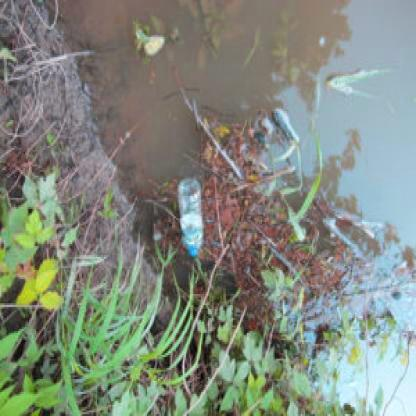Plastic: (173, 182, 209, 258)
